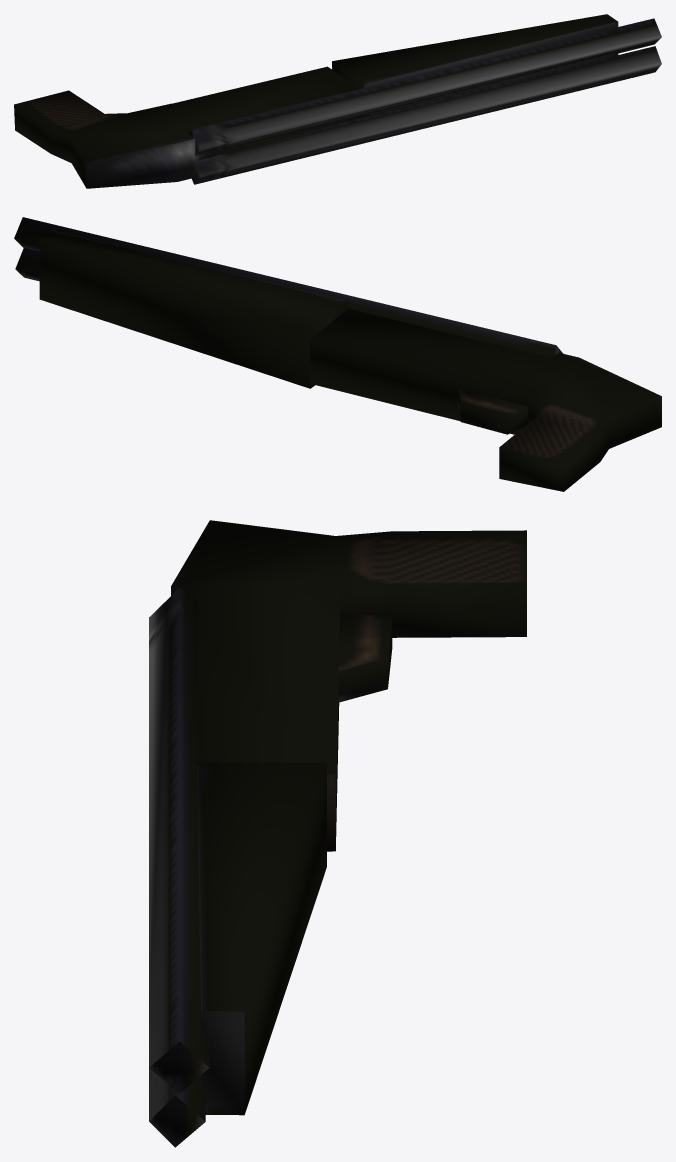
File: g_shotout.gltf
The picture shows the model from 3 angles, top to bottom: view 1: azimuth 30°, elevation 25°; view 2: azimuth 150°, elevation 25°; view 3: azimuth 270°, elevation 25°; orthographic projection. The views are drawn at different scales.
Visible parts, largest first — view 1: mesh0_noesis_meshnode_0000; view 2: mesh0_noesis_meshnode_0000; view 3: mesh0_noesis_meshnode_0000.
Part boxes in pixels (x1,y1,x2,y2): mesh0_noesis_meshnode_0000: (14,14,661,188); mesh0_noesis_meshnode_0000: (14,217,661,491); mesh0_noesis_meshnode_0000: (149,520,526,1147).
Size of the model in its own units: 44.47 by 4.16 by 12.99.
Materials: 1 (1 with a texture image).
